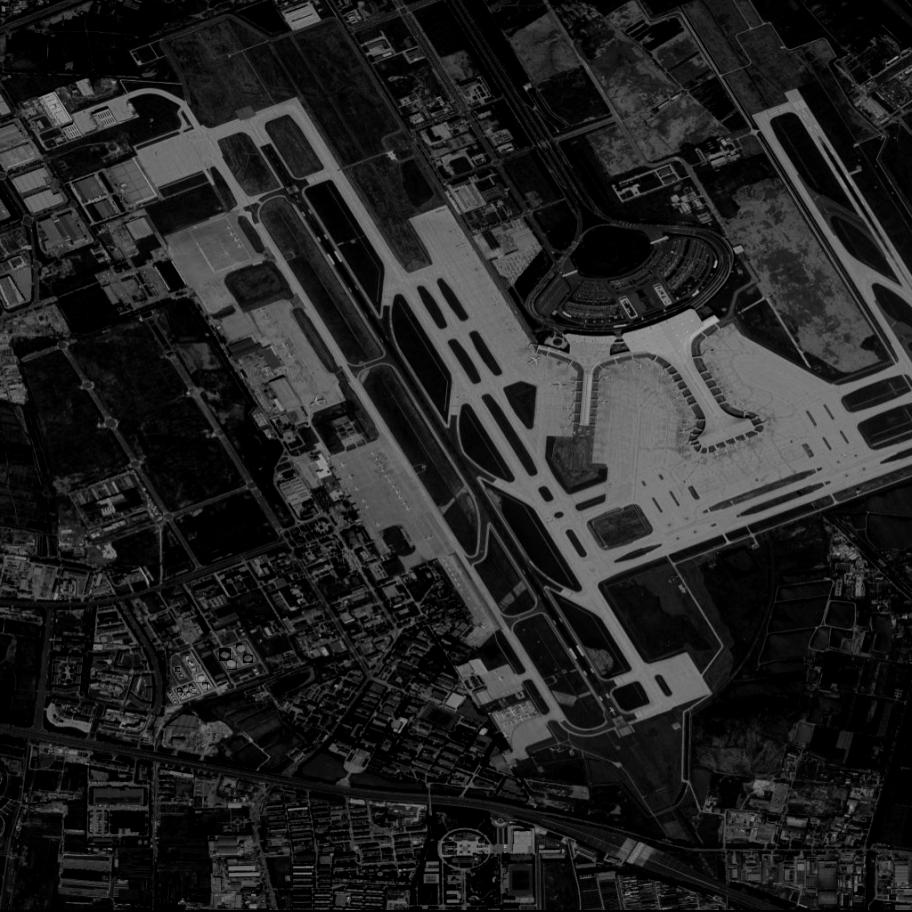storage-tank: (219, 649, 232, 661), (236, 643, 247, 654), (243, 655, 253, 664), (196, 675, 207, 683), (228, 661, 237, 670), (189, 684, 195, 691), (202, 683, 207, 690), (176, 667, 181, 672), (178, 689, 183, 693), (179, 674, 184, 678), (192, 668, 196, 672), (193, 690, 197, 693), (188, 694, 191, 697), (187, 656, 189, 660), (182, 693, 184, 696), (184, 688, 187, 690), (190, 662, 191, 665)
